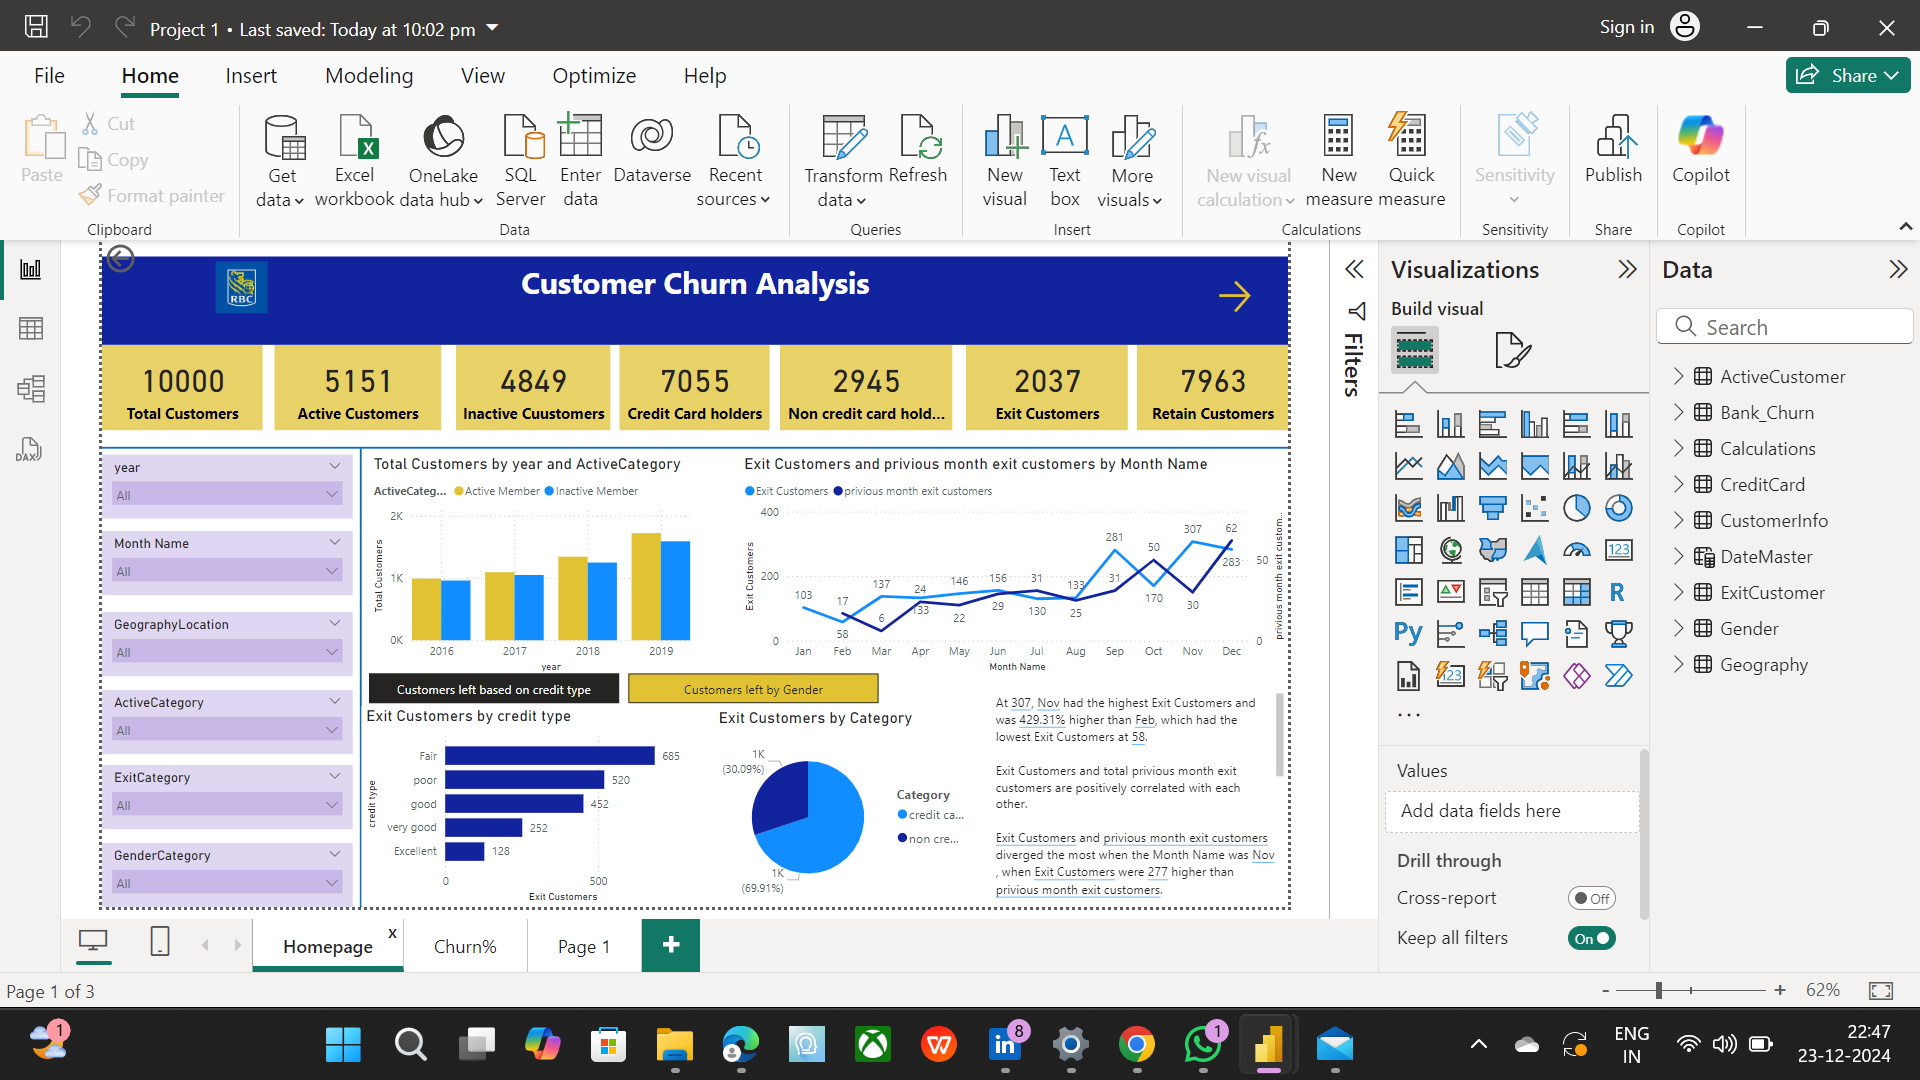

The dashboard page shown, as its layout file describes it:
{"tool":"powerbi","page":{"name":"Homepage","canvas":[1280,720],"ordinal":0},"visuals":[{"type":"card","fields":{"Values":["Calculations.Total Customers"]},"box":[0,113.3,173.3,92.3],"z":0},{"type":"card","fields":{"Values":["Calculations.Active Customers"]},"box":[186.2,113.3,179.7,92.3],"z":1000},{"type":"card","fields":{"Values":["Calculations.Inactive Cuustomers"]},"box":[382.1,113.3,166.8,92.3],"z":2000},{"type":"textbox","box":[0,17.8,1280.8,95.5],"z":3000},{"type":"image","box":[76.1,17.8,149,66.4],"z":4000},{"type":"card","fields":{"Values":["Calculations.Credit Card holders"]},"box":[558.6,113.3,161.9,92.3],"z":5000},{"type":"card","fields":{"Values":["Calculations.Exit Customers"]},"box":[932.7,113.3,174.9,92.3],"z":6000},{"type":"card","fields":{"Values":["Calculations.Retain Customers"]},"box":[1117.3,113.3,163.5,92.3],"z":7000},{"type":"card","fields":{"Values":["Calculations.Non credit card holders"]},"box":[731.9,113.3,186.2,92.3],"z":8000},{"type":"shape","box":[0,183,1280.8,82.6],"z":9000},{"type":"shape","box":[270.4,225.1,17.8,495.5],"z":10000},{"type":"slicer","fields":{"Values":["DateMaster.year"]},"box":[0,231.5,270.4,69.6],"z":11000},{"type":"slicer","fields":{"Values":["DateMaster.Month Name"]},"box":[0,314.1,270.4,69.6],"z":12000},{"type":"slicer","fields":{"Values":["Geography.GeographyLocation"]},"box":[0,401.6,270.4,69.6],"z":13000},{"type":"slicer","fields":{"Values":["ActiveCustomer.ActiveCategory"]},"box":[0,485.8,270.4,69.6],"z":14000},{"type":"slicer","fields":{"Values":["ExitCustomer.ExitCategory"]},"box":[0,566.7,270.4,69.6],"z":15000},{"type":"slicer","fields":{"Values":["Gender.GenderCategory"]},"box":[0,650.9,270.4,69.6],"z":16000},{"type":"clusteredColumnChart","fields":{"Series":["ActiveCustomer.ActiveCategory"],"Y":["Calculations.Total Customers"],"Category":["DateMaster.year","DateMaster.Month Name"]},"box":[288.7,230.9,351.3,239.2],"z":17000},{"type":"lineChart","fields":{"Category":["DateMaster.Month Name"],"Y":["Calculations.Exit Customers"],"Y2":["Calculations.privious month exit customers"]},"box":[688.2,231.5,592.6,239.6],"z":18000},{"type":"clusteredBarChart","fields":{"Category":["Bank_Churn.credit type"],"Y":["Calculations.Exit Customers"]},"box":[280.4,503.9,359.6,215.4],"z":20000},{"type":"pieChart","fields":{"Category":["CreditCard.Category"],"Y":["Calculations.Exit Customers"]},"box":[661.4,504.7,285.4,216.1],"z":21000},{"type":"textbox","box":[960,484.9,320,235.9],"z":22000},{"type":"actionButton","box":[1199.2,39.6,61,44.5],"z":23000},{"type":"bookmarkNavigator","box":[288.7,468.5,550.9,33],"z":24000},{"type":"actionButton","box":[0,0,100,40],"z":25000}]}

Visuals, with their boxes on the page's 1280x720 design canvas (x1, y1, x2, y2). These are canvas units, not pixel positions in the 1920x1080 screenshot, which may show the page scaled, cropped or inside an application window:
card - Calculations.Total Customers: [0, 113, 173, 206]
card - Calculations.Active Customers: [186, 113, 366, 206]
card - Calculations.Inactive Cuustomers: [382, 113, 549, 206]
textbox: [0, 18, 1281, 113]
image: [76, 18, 225, 84]
card - Calculations.Credit Card holders: [559, 113, 720, 206]
card - Calculations.Exit Customers: [933, 113, 1108, 206]
card - Calculations.Retain Customers: [1117, 113, 1281, 206]
card - Calculations.Non credit card holders: [732, 113, 918, 206]
shape: [0, 183, 1281, 266]
shape: [270, 225, 288, 721]
slicer - DateMaster.year: [0, 232, 270, 301]
slicer - DateMaster.Month Name: [0, 314, 270, 384]
slicer - Geography.GeographyLocation: [0, 402, 270, 471]
slicer - ActiveCustomer.ActiveCategory: [0, 486, 270, 555]
slicer - ExitCustomer.ExitCategory: [0, 567, 270, 636]
slicer - Gender.GenderCategory: [0, 651, 270, 720]
clusteredColumnChart - ActiveCustomer.ActiveCategory x Calculations.Total Customers: [289, 231, 640, 470]
lineChart - DateMaster.Month Name x Calculations.Exit Customers: [688, 232, 1281, 471]
clusteredBarChart - Bank_Churn.credit type x Calculations.Exit Customers: [280, 504, 640, 719]
pieChart - CreditCard.Category x Calculations.Exit Customers: [661, 505, 947, 721]
textbox: [960, 485, 1280, 721]
actionButton: [1199, 40, 1260, 84]
bookmarkNavigator: [289, 468, 840, 502]
actionButton: [0, 0, 100, 40]
